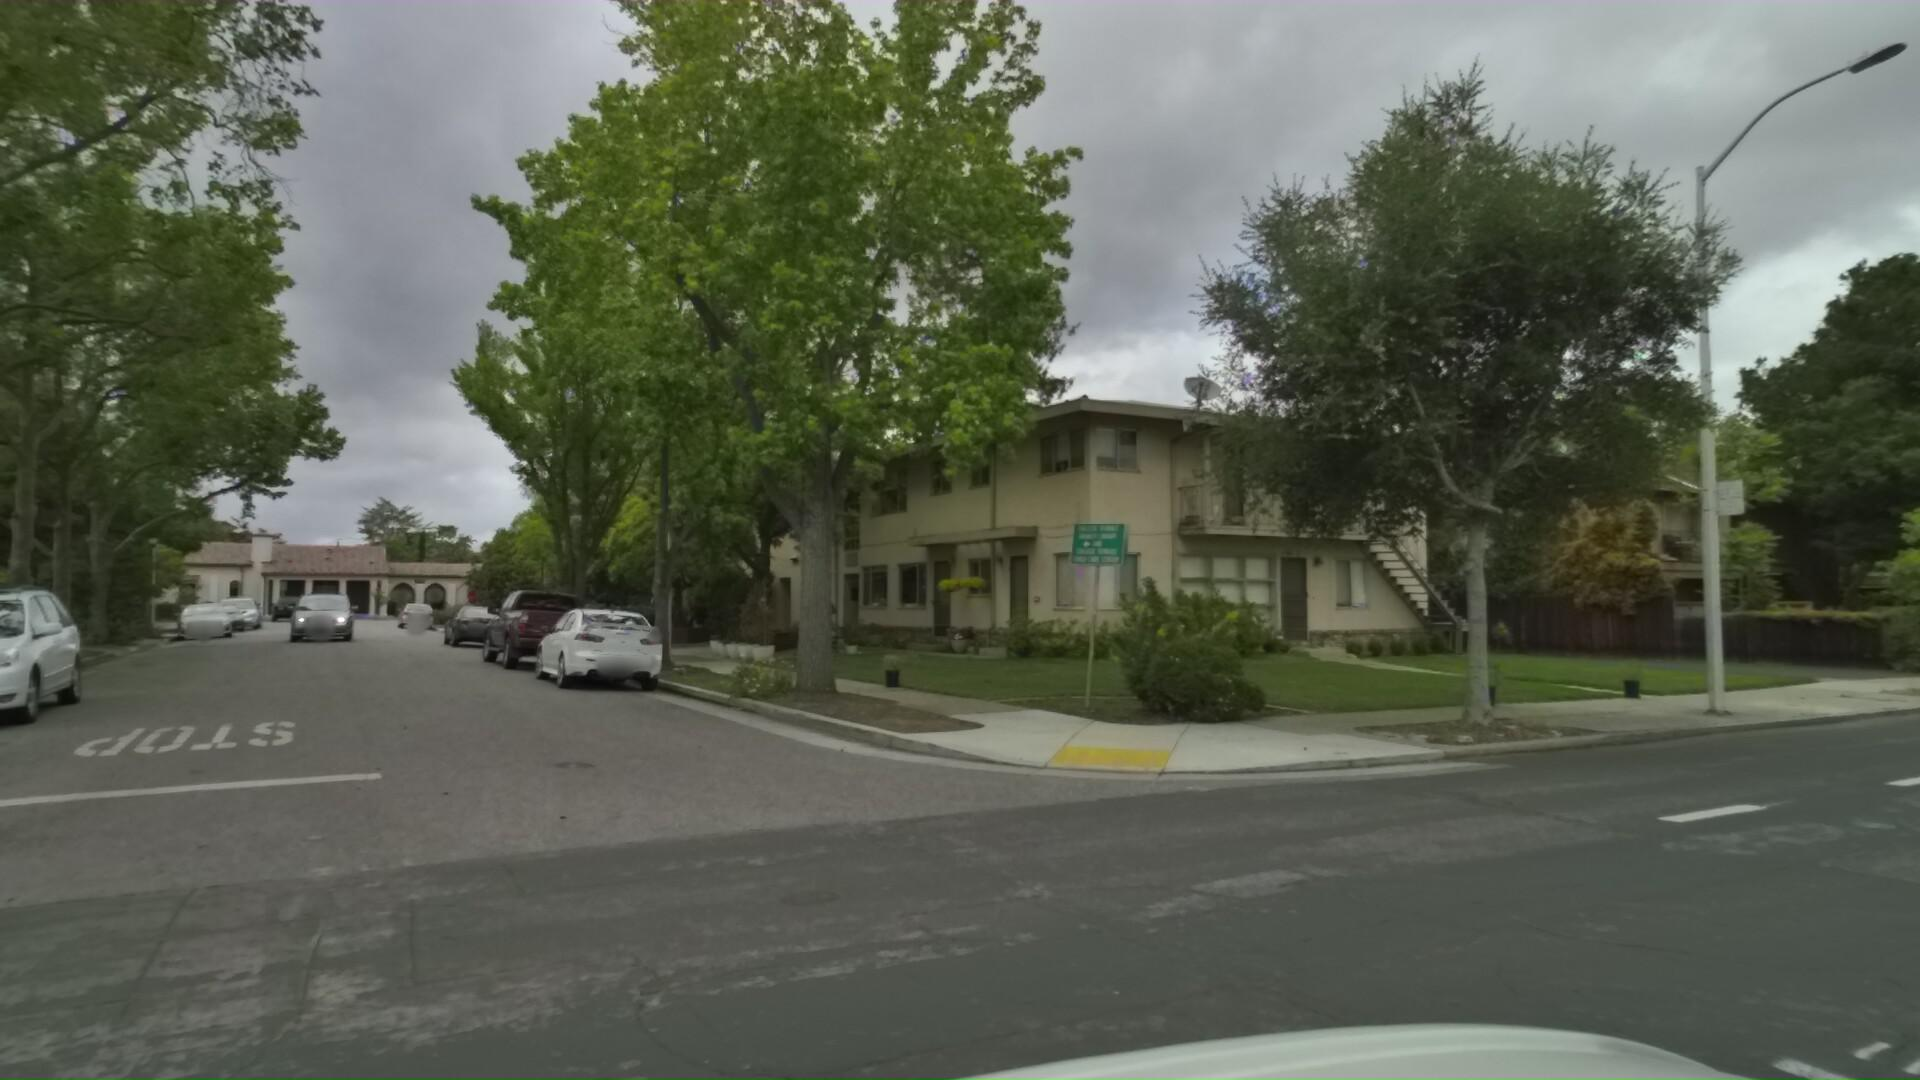car: (514, 597, 663, 698), (0, 570, 84, 742), (467, 580, 603, 671), (282, 587, 352, 638), (431, 600, 506, 645), (170, 593, 237, 637), (196, 597, 251, 629), (216, 597, 265, 626), (393, 597, 431, 624), (269, 589, 305, 615)
